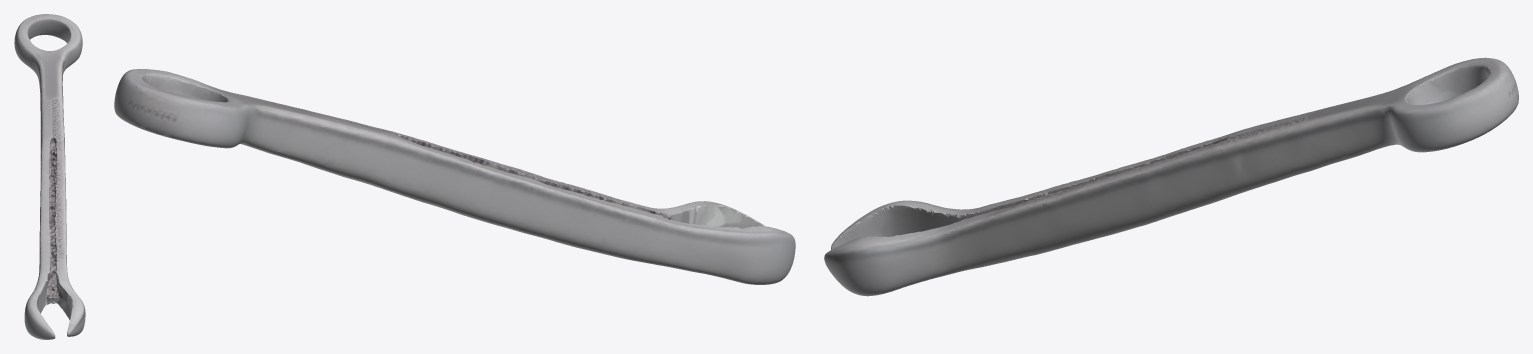
The model's file is surgical_forceps.glb.
3 views of the same model, side by side, from view 1: azimuth 30°, elevation 25°; view 2: azimuth 150°, elevation 25°; view 3: azimuth 270°, elevation 25° (orthographic). The views are drawn at different scales.
Parts seen in each view (by area): view 1: model; view 2: model; view 3: model.
Boxes of the visible parts, x1,y1,x2,y2 form: model: (14, 14, 85, 339); model: (114, 69, 795, 284); model: (824, 57, 1518, 296).
Bounding box in the file's own units: 1.21 × 1.03 × 1.9.
Materials: 1 (1 with a texture image).
